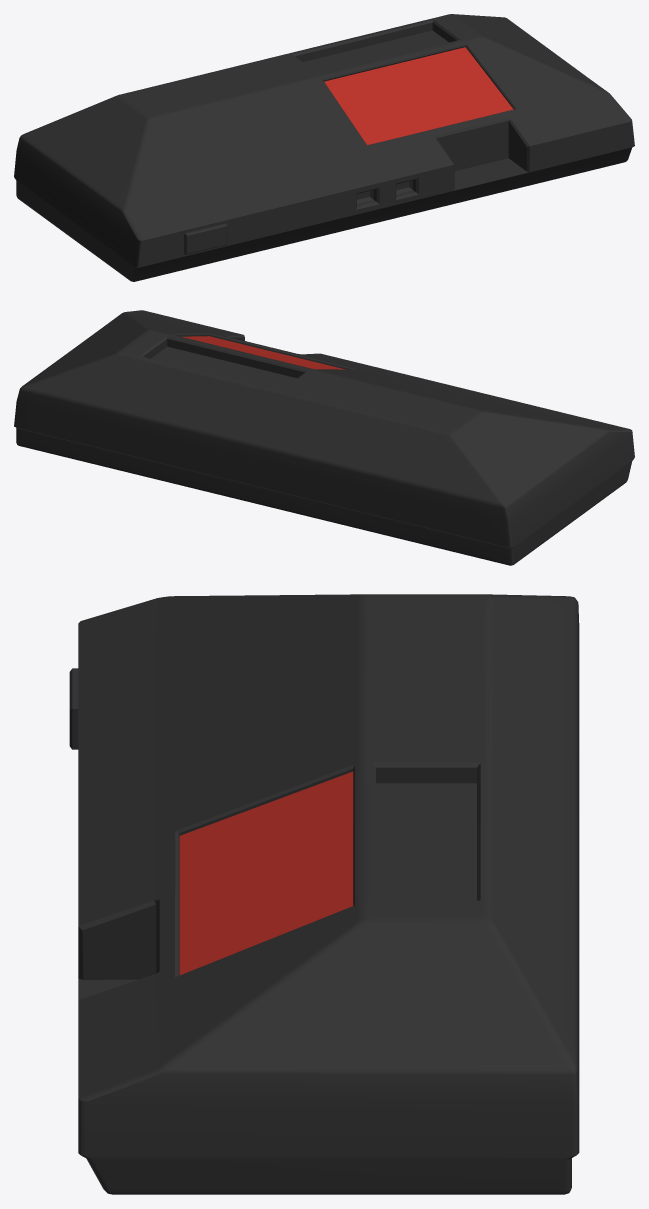
File: SEGA_Master_System_ET.fbx
3 views of the same model, one above another, from view 1: azimuth 30°, elevation 25°; view 2: azimuth 150°, elevation 25°; view 3: azimuth 270°, elevation 25° (orthographic). The views are drawn at different scales.
Visible parts, largest first — view 1: SEGA_Master_System_v1; view 2: SEGA_Master_System_v1; view 3: SEGA_Master_System_v1.
Part boxes in pixels (<box>): SEGA_Master_System_v1: <box>14,14,634,281</box>; SEGA_Master_System_v1: <box>14,310,634,565</box>; SEGA_Master_System_v1: <box>69,594,579,1194</box>.
Bounding box in the file's own units: 19.76 × 3.73 × 8.73.
